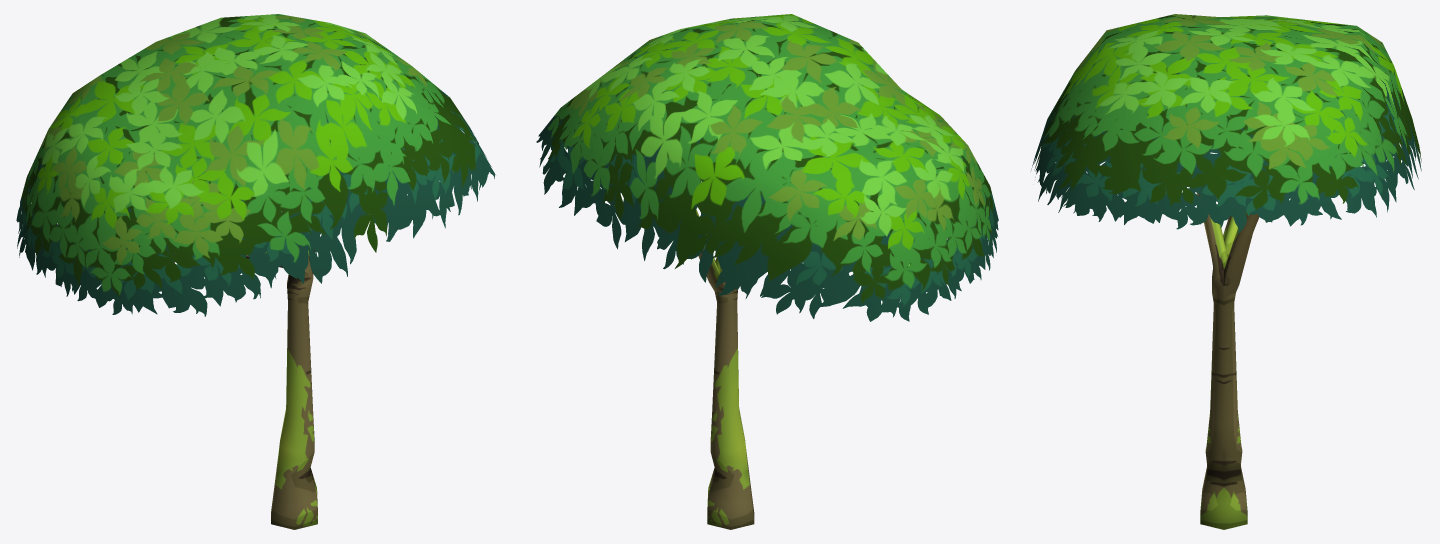
Rendered from F_W_O_tree_001.fbx.
The picture shows the model from 3 angles, left to right: view 1: azimuth 30°, elevation 25°; view 2: azimuth 150°, elevation 25°; view 3: azimuth 270°, elevation 25°; orthographic projection.
Visible parts, largest first — view 1: F_W_O_tree_001; view 2: F_W_O_tree_001; view 3: F_W_O_tree_001.
Part boxes in pixels (x1,y1,x2,y2): F_W_O_tree_001: [16, 14, 495, 529]; F_W_O_tree_001: [536, 14, 998, 529]; F_W_O_tree_001: [1031, 14, 1421, 529].
Size of the model in its own units: 17.79 by 20.01 by 14.84.
